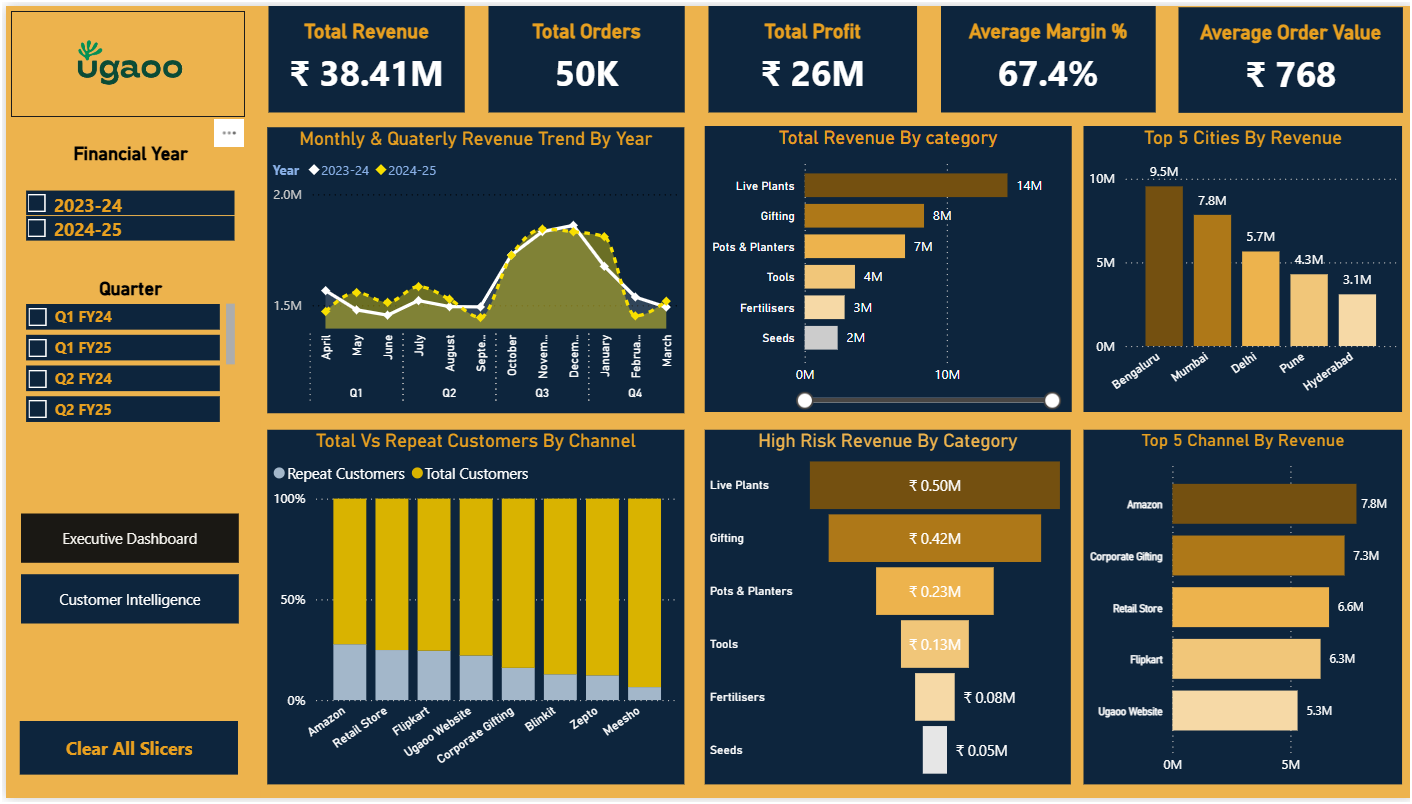

This screenshot's page, from the dashboard's own definition file:
{"tool":"powerbi","page":{"name":"Executive Dashboard","canvas":[1280,720],"ordinal":0},"visuals":[{"type":"shape","box":[0,87.6,230.9,632],"z":0},{"type":"shape","box":[0,0,1270.1,96.9],"z":1000},{"type":"image","box":[5,4,212,97],"z":2000},{"type":"card","title":"Total Orders","fields":{"Values":["Measure_Table.Total Orders"]},"box":[438.1,0,178.4,96.9],"z":3000,"group":"g1"},{"type":"lineChart","title":"Monthly & Quaterly Revenue Trend By Year","fields":{"Y":["Measure_Table.Total Revenue"],"Series":["fact_orders.fy"],"Category":["dim_date.fiscal_quarter","dim_date.month_name"]},"box":[237.9,110,379.2,260.2],"z":3000},{"type":"card","title":"Total Revenue","fields":{"Values":["Measure_Table.Total Revenue"]},"box":[238.1,0,178.4,96.9],"z":4000,"group":"g1"},{"type":"clusteredBarChart","title":"Total Revenue By category","fields":{"Category":["fact_orders.category"],"Y":["Measure_Table.Total Revenue"]},"box":[634.9,108.6,333.1,260.2],"z":4000},{"type":"card","title":"Total Profit","fields":{"Values":["Measure_Table.Total Profit"]},"box":[638.1,0,189.7,96.9],"z":5000,"group":"g1"},{"type":"clusteredBarChart","title":"Top 5 Channel By Revenue","fields":{"Category":["fact_orders.channel"],"Y":["Measure_Table.Total Revenue"]},"box":[979.9,385.1,290,322.7],"z":5000},{"type":"card","title":"Average Margin %","fields":{"Values":["Measure_Table.Avg Gross Margin %"]},"box":[849.4,0,194.8,96.9],"z":6000,"group":"g1"},{"type":"clusteredColumnChart","title":"Top 5 Cities By Revenue","fields":{"Category":["fact_orders.city"],"Y":["Measure_Table.Total Revenue"]},"box":[979.9,108.6,290,260.2],"z":6000},{"type":"card","title":"Average Order Value","fields":{"Values":["Measure_Table.Avg Order Value"]},"box":[1065.9,1,204.1,95.9],"z":7000,"group":"g1"},{"type":"actionButton","box":[12.5,650,198.8,48.8],"z":7000},{"type":"funnel","title":"High Risk Revenue By Category","fields":{"Category":["fact_orders.category"],"Y":["Measure_Table.High Risk Revenue"]},"box":[634.9,385.1,333.1,322.7],"z":8000},{"type":"hundredPercentStackedColumnChart","title":"Total Vs Repeat Customers By Channel","fields":{"Category":["fact_orders.channel"],"Y":["Measure_Table.Repeat Customers","Measure_Table.Total Customers"]},"box":[237.9,385.1,379.2,322.7],"z":9000},{"type":"group","id":"g1","title":"Group 2","box":[238.1,0,1032,96.9],"z":10000},{"type":"listSlicer","title":"Financial Year","fields":{"Values":["fact_orders.fy"]},"box":[13.4,123.4,199.3,116],"z":11000},{"type":"listSlicer","title":"Quarter","fields":{"Values":["fact_orders.order_quarter"]},"box":[13.4,246.8,199.3,139.8],"z":12000},{"type":"pageNavigator","box":[13.8,461.2,198.8,101.2],"z":13000}]}

Visuals, with their boxes in screenshot pixels (x1, y1, x2, y2), scaled from the page's 1280x720 canvas onto the 1412x804 screenshot:
shape: (0,98,255,803)
shape: (0,0,1401,108)
image: (6,4,239,113)
"Total Orders" card: (483,0,680,108)
"Monthly & Quaterly Revenue Trend By Year" lineChart: (262,123,681,413)
"Total Revenue" card: (263,0,459,108)
"Total Revenue By category" clusteredBarChart: (700,121,1068,412)
"Total Profit" card: (704,0,913,108)
"Top 5 Channel By Revenue" clusteredBarChart: (1081,430,1401,790)
"Average Margin %" card: (937,0,1152,108)
"Top 5 Cities By Revenue" clusteredColumnChart: (1081,121,1401,412)
"Average Order Value" card: (1176,1,1401,108)
actionButton: (14,726,233,780)
"High Risk Revenue By Category" funnel: (700,430,1068,790)
"Total Vs Repeat Customers By Channel" hundredPercentStackedColumnChart: (262,430,681,790)
"Group 2" group: (263,0,1401,108)
"Financial Year" listSlicer: (15,138,235,267)
"Quarter" listSlicer: (15,276,235,432)
pageNavigator: (15,515,235,628)
